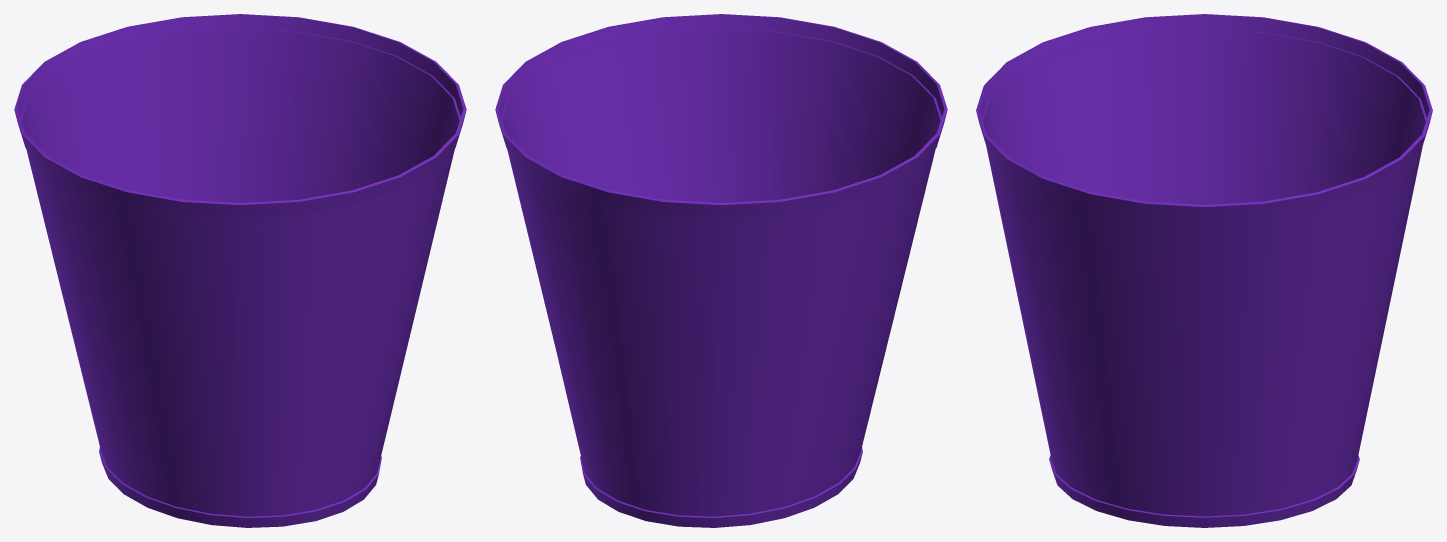
Rendered from wasteb.FBX.
The picture shows the model from 3 angles, left to right: view 1: azimuth 30°, elevation 25°; view 2: azimuth 150°, elevation 25°; view 3: azimuth 270°, elevation 25°; orthographic projection.
Visible parts, largest first — view 1: Cone002; view 2: Cone002; view 3: Cone002.
Part boxes in pixels (<box>): Cone002: <box>14,14,466,527</box>; Cone002: <box>495,14,947,527</box>; Cone002: <box>976,14,1432,527</box>.
Size of the model in its own units: 0.345 by 0.3008 by 0.345.
